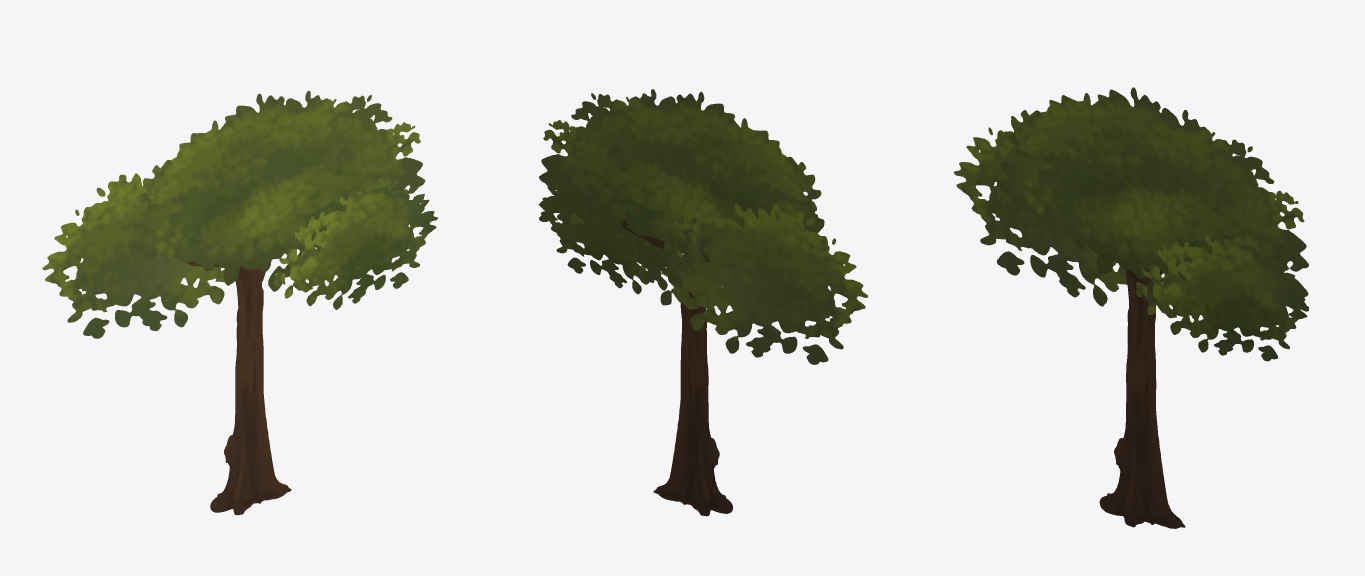
File: tree02.fbx
The picture shows the model from 3 angles, left to right: view 1: azimuth 30°, elevation 25°; view 2: azimuth 150°, elevation 25°; view 3: azimuth 330°, elevation 25°; orthographic projection. The views are drawn at different scales.
Visible parts, largest first — view 1: Plane.017; view 2: Plane.017; view 3: Plane.017.
Boxes of the visible parts, box(x1,y1,x2,y2) form: Plane.017: box(42, 91, 437, 515); Plane.017: box(538, 89, 868, 516); Plane.017: box(953, 87, 1309, 528).
Size of the model in its own units: 283 by 301 by 33.87.
